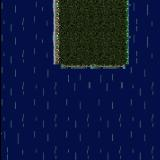Slow: (0, 68, 160, 160), (0, 0, 52, 68), (129, 0, 160, 68)
